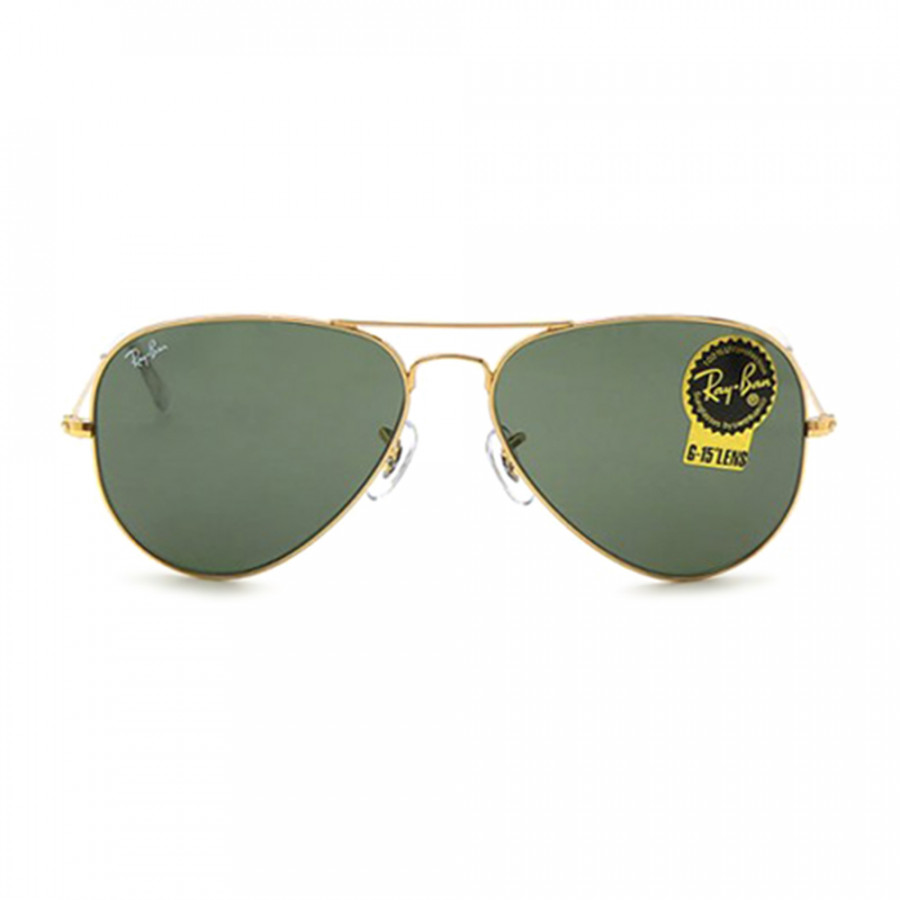Rayban: (691, 358, 776, 408), (117, 335, 176, 372)
